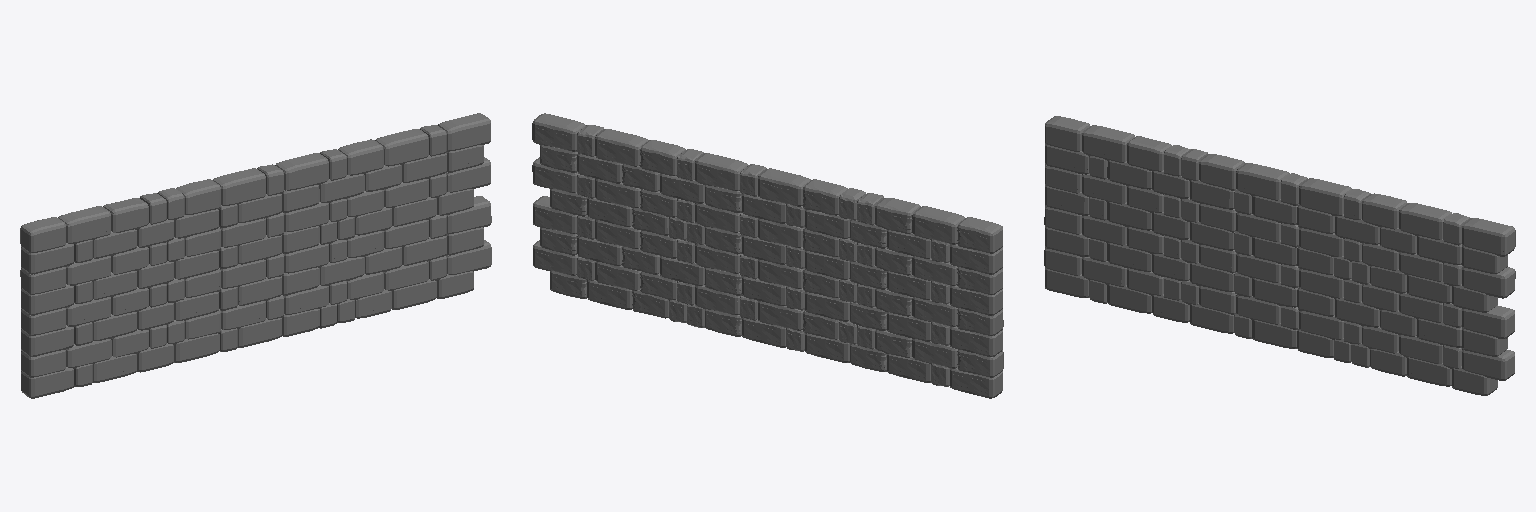
The robot description file, URDF, robot "urdf_wall":
<?xml version="1.0" ?>
<robot name="urdf_wall">
 <link name="world"/>
  <joint name="fixed" type="fixed">
    <parent link="world"/>
    <child link="baseLink"/>
    <origin xyz="0 0 0"/>
  </joint>

  <link name="baseLink">
    <inertial>
      <origin rpy="1.57 0 0" xyz="0 0 0"/>
       <mass value="0.1"/>
       <inertia ixx="0.1" ixy="0" ixz="0" iyy="0.1" iyz="0" izz="0.1"/>
    </inertial>
    <visual>
        <origin xyz='0 0 0' rpy='1.57 0 0'/>
    <geometry>
     <mesh filename="walls_half.obj"  scale="0.01 0.01 0.01" />
    </geometry>
    <material name="gray">
        <color rgba="0.509 0.509 0.509 1"/>
    </material>
    </visual>
    <collision>
        <origin xyz='0 0 0' rpy='1.57 0 0'/>
    <geometry>
     <mesh filename="walls_half.obj"  scale="0.01 0.01 0.01" />
    </geometry>
    </collision>
  </link>

  <link name="wall2">
    <inertial>
      <origin rpy="1.57 0 0" xyz="0 0 0"/>
       <mass value="0.1"/>
       <inertia ixx="0.1" ixy="0" ixz="0" iyy="0.1" iyz="0" izz="0.1"/>
    </inertial>
    <visual>
        <origin xyz='0 0 0' rpy='1.57 0 0'/>
    <geometry>
     <mesh filename="walls_half.obj"  scale="0.01 0.01 0.01" />
    </geometry>
    <material name="gray">
        <color rgba="0.509 0.509 0.509 1"/>
    </material>
    </visual>
    <collision>
        <origin xyz='0 0 0' rpy='1.57 0 0'/>
    <geometry>
     <mesh filename="walls_half.obj"  scale="0.01 0.01 0.01" />
    </geometry>
    </collision>
  </link>

  <joint name="wall2_joint" type="fixed">
    <parent link="baseLink"/>
    <child link="wall2"/>
    <origin xyz="0.0 0 0.05"/>
  </joint>

</robot>

--- Render facts (derived) ---
Views: 3 orthographic renders of the robot side by side, from view 1: azimuth 30°, elevation 25°; view 2: azimuth 150°, elevation 25°; view 3: azimuth 330°, elevation 25°.
Robot: urdf_wall — 3 links, 2 joints (2 fixed); root link world; default pose: all joints at 0.
Visible links, largest first — view 1: wall2, baseLink; view 2: baseLink, wall2; view 3: wall2, baseLink.
Link boxes in pixels (<box>): wall2: <box>20,113,491,392</box>; baseLink: <box>20,137,491,398</box>; baseLink: <box>532,127,1003,398</box>; wall2: <box>532,113,1003,392</box>; wall2: <box>1044,116,1515,390</box>; baseLink: <box>1044,139,1515,395</box>.
Bounding box of the posed robot: 7.17 × 0.3218 × 2.51 m (x, y, z).
2 mesh visuals loaded from 1 distinct referenced files (1 OBJ).